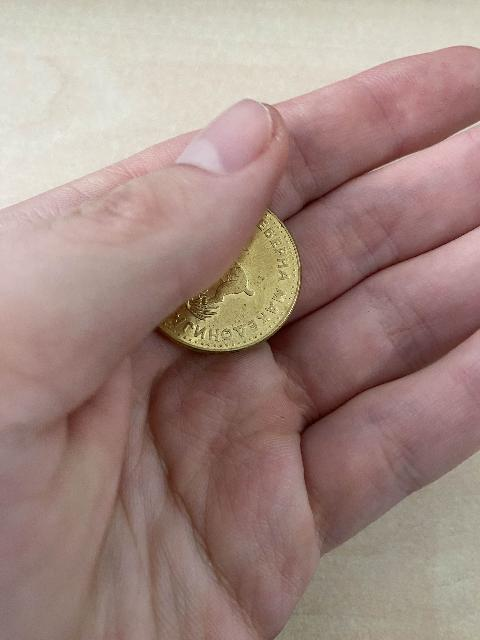5_coin: (159, 210, 300, 352)
